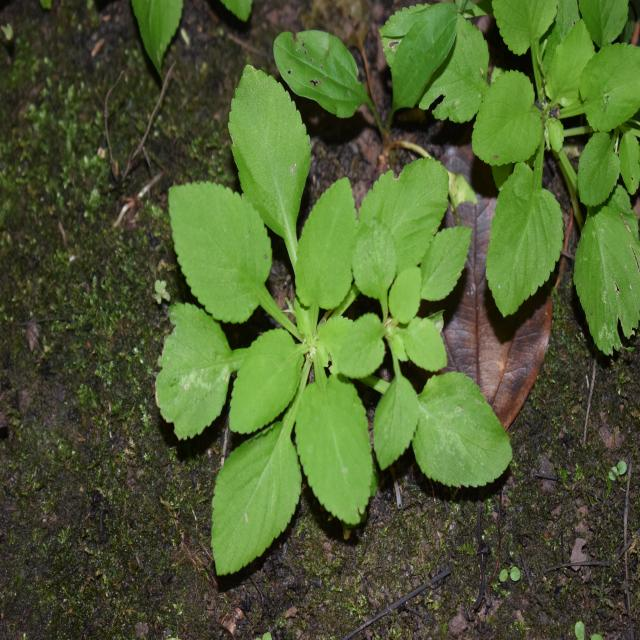Viola: (162, 109, 524, 523)
